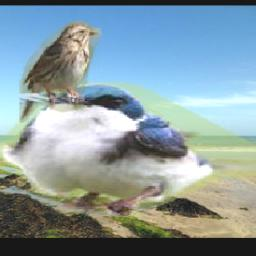Sparrow: (20, 21, 103, 123)
Swallow: (0, 82, 256, 216)
